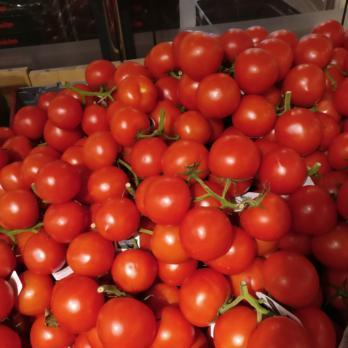Tomato: (175, 21, 348, 348), (80, 58, 176, 347), (9, 91, 83, 348)
